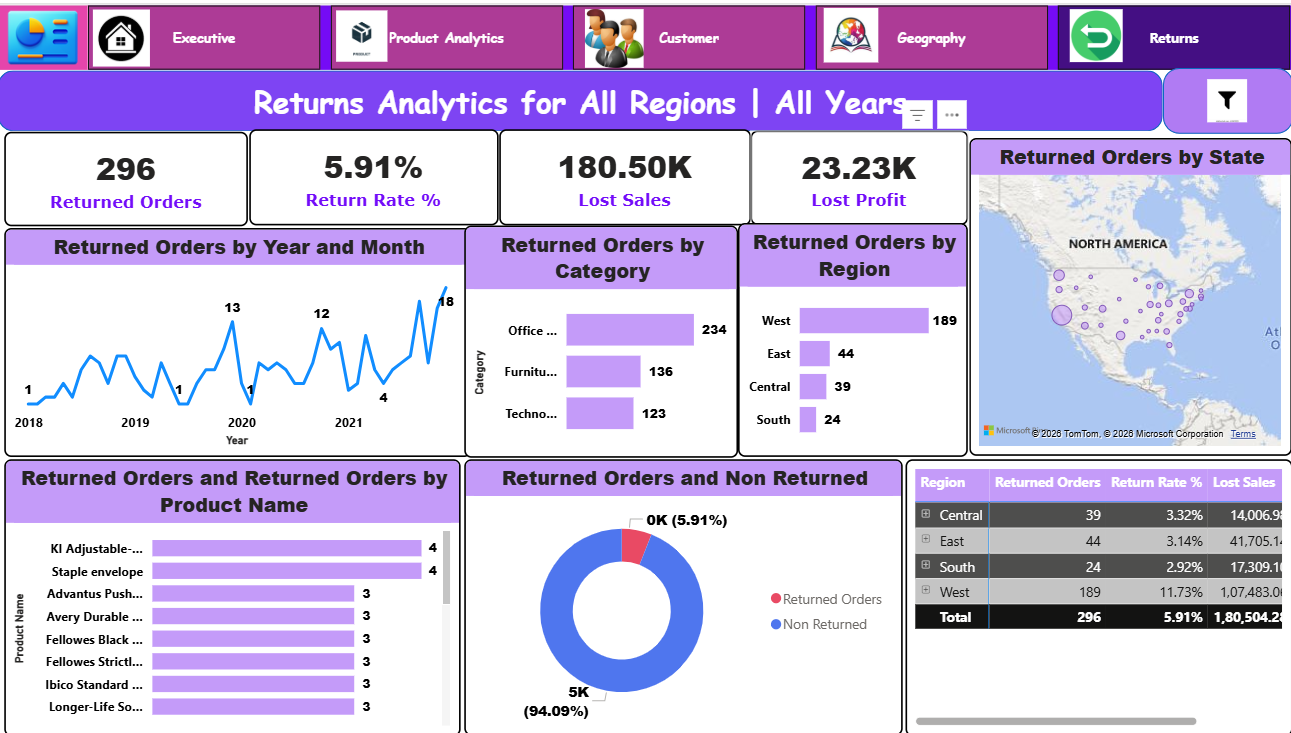

The page's visual inventory and layout, read from the dashboard file:
{"tool":"powerbi","page":{"name":"Returns","canvas":[1280,720],"ordinal":4},"visuals":[{"type":"pageNavigator","box":[88.3,2.8,1181.9,63.1],"z":0},{"type":"image","box":[0,2.7,87.8,63.1],"z":1000},{"type":"shape","box":[0,65.8,1143.2,59.6],"z":2000},{"type":"shape","box":[1143.2,63.3,127.9,64.5],"z":3000},{"type":"image","box":[1169.1,70,74.1,52.1],"z":4000},{"type":"image","box":[87.8,0,65.9,68.6],"z":5000},{"type":"image","box":[321.1,2.7,71.4,60.4],"z":6000},{"type":"image","box":[570.8,1.4,68.6,67.2],"z":7000},{"type":"image","box":[805.5,0,64.5,63.1],"z":8000},{"type":"image","box":[1037.4,1.4,82.3,61.7],"z":9000},{"type":"card","fields":{"Values":["Measure.Returned Orders"]},"box":[6.2,126.6,239.6,93.1],"z":11000},{"type":"card","fields":{"Values":["Measure.Return Rate %"]},"box":[247,124.1,244.5,94.3],"z":12000},{"type":"card","fields":{"Values":["Measure.Lost Sales"]},"box":[491.5,124.1,247,94.3],"z":13000},{"type":"card","fields":{"Values":["Measure.Lost Profur"]},"box":[738.6,125.4,213.5,93.1],"z":14000},{"type":"lineChart","fields":{"Y":["Measure.Returned Orders"],"Category":["Date Table.Date.Variation.Date Hierarchy.Year","Date Table.Date.Variation.Date Hierarchy.Month"]},"box":[6.2,220.9,458,224.7],"z":15000},{"type":"barChart","fields":{"Category":["Orders.Category"],"Y":["Measure.Returned Orders"]},"box":[458.2,218,268.4,228.4],"z":16000},{"type":"barChart","fields":{"Category":["Orders.Region"],"Y":["Measure.Returned Orders"]},"box":[726.6,216.5,225.4,229.8],"z":17000},{"type":"clusteredBarChart","fields":{"Category":["Orders.Product Name"],"Y":["Measure.Returned Orders","Measure.Returned Orders"]},"box":[6.2,448.1,448.1,271.8],"z":18000},{"type":"donutChart","fields":{"Y":["Measure.Returned Orders","Measure.Non Returned"]},"box":[458.2,447.8,430,271.4],"z":19000},{"type":"pivotTable","fields":{"Rows":["People.Region","Orders.Category"],"Values":["Measure.Returned Orders","Measure.Return Rate %","Measure.Lost Sales","Measure.Lost Profit"]},"box":[891.2,448.1,379.8,271.8],"z":20000},{"type":"map","fields":{"Category":["Orders.State"],"Size":["Measure.Returned Orders"]},"box":[952.9,133,316.7,312.3],"z":21000}]}

Visuals, with their boxes in screenshot pixels (x1, y1, x2, y2), scaled from the page's 1280x720 canvas onto the 1291x733 screenshot:
pageNavigator: bbox=(89, 3, 1281, 67)
image: bbox=(0, 3, 89, 67)
shape: bbox=(0, 67, 1153, 128)
shape: bbox=(1153, 64, 1282, 130)
image: bbox=(1179, 71, 1254, 124)
image: bbox=(89, 0, 155, 70)
image: bbox=(324, 3, 396, 64)
image: bbox=(576, 1, 645, 70)
image: bbox=(812, 0, 877, 64)
image: bbox=(1046, 1, 1129, 64)
card - Measure.Returned Orders: bbox=(6, 129, 248, 224)
card - Measure.Return Rate %: bbox=(249, 126, 496, 222)
card - Measure.Lost Sales: bbox=(496, 126, 745, 222)
card - Measure.Lost Profur: bbox=(745, 128, 960, 222)
lineChart - Measure.Returned Orders x Date Table.Date.Variation.Date Hierarchy.Year: bbox=(6, 225, 468, 454)
barChart - Orders.Category x Measure.Returned Orders: bbox=(462, 222, 733, 454)
barChart - Orders.Region x Measure.Returned Orders: bbox=(733, 220, 960, 454)
clusteredBarChart - Orders.Product Name x Measure.Returned Orders: bbox=(6, 456, 458, 732)
donutChart - Measure.Returned Orders x Measure.Non Returned: bbox=(462, 456, 896, 732)
pivotTable - People.Region x Orders.Category: bbox=(899, 456, 1282, 732)
map - Orders.State x Measure.Returned Orders: bbox=(961, 135, 1281, 453)
